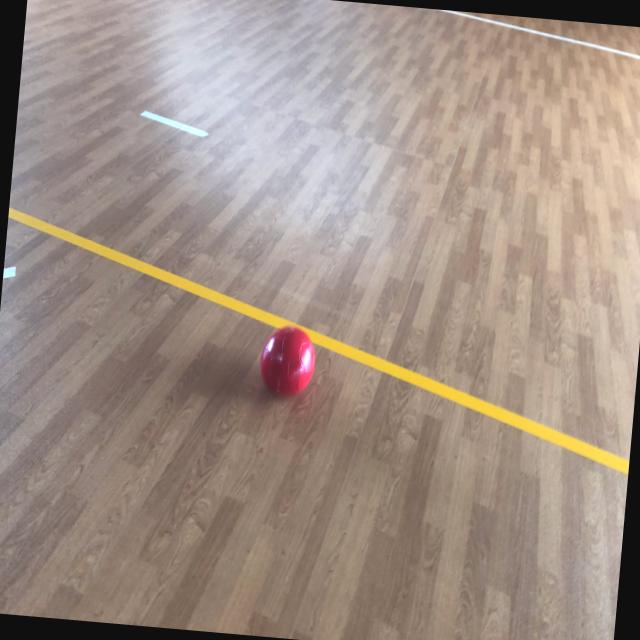red_ball: (257, 322, 318, 401)
